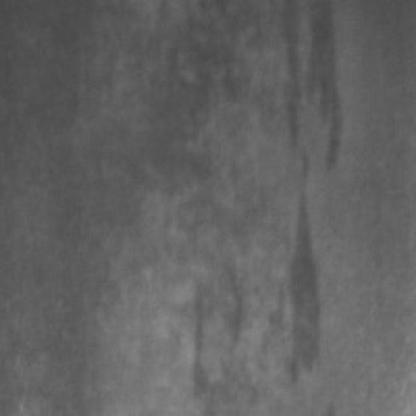inclusion: (258, 165, 318, 397), (272, 6, 346, 183), (177, 256, 243, 401)
